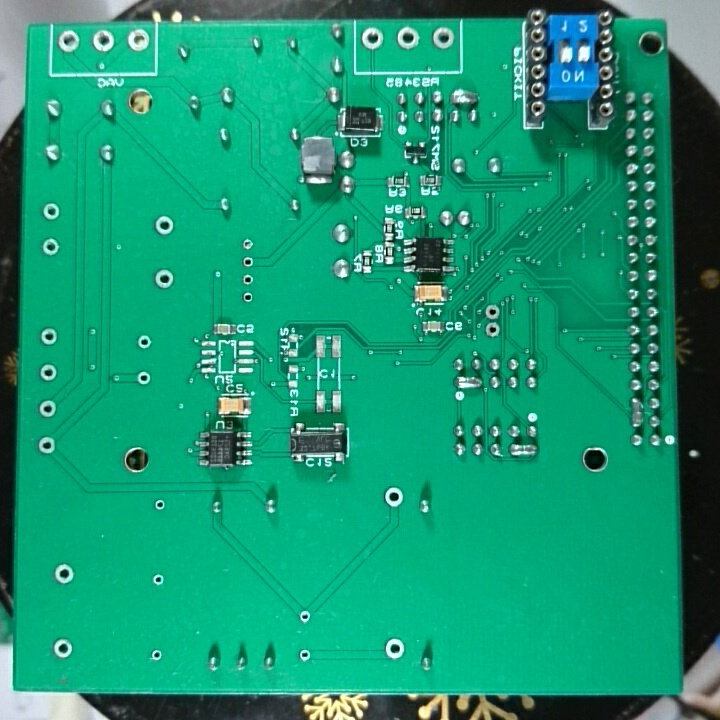F: (396, 25, 422, 52), (359, 25, 385, 52), (48, 636, 77, 660), (429, 25, 454, 52), (125, 27, 152, 52), (90, 29, 117, 54), (151, 213, 178, 238), (382, 635, 406, 663), (57, 28, 81, 54), (151, 266, 177, 290), (51, 562, 77, 586), (381, 485, 405, 511), (38, 324, 61, 348), (35, 397, 59, 420), (35, 435, 59, 457), (41, 235, 62, 258), (41, 200, 62, 222), (37, 360, 58, 382), (482, 300, 503, 322), (134, 332, 155, 352), (134, 369, 155, 389), (483, 319, 502, 339), (239, 269, 258, 289), (295, 646, 314, 664), (240, 253, 256, 272), (151, 495, 168, 512), (149, 571, 166, 588), (240, 289, 257, 306), (148, 646, 164, 663), (297, 608, 312, 626), (240, 234, 254, 251)
P: (448, 85, 483, 107), (506, 440, 539, 460), (628, 394, 645, 432), (453, 372, 484, 391)
